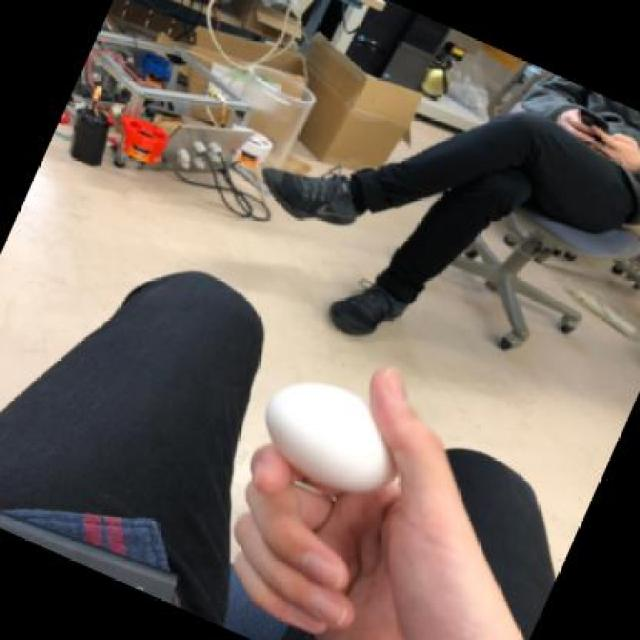egg: (264, 382, 398, 497)
